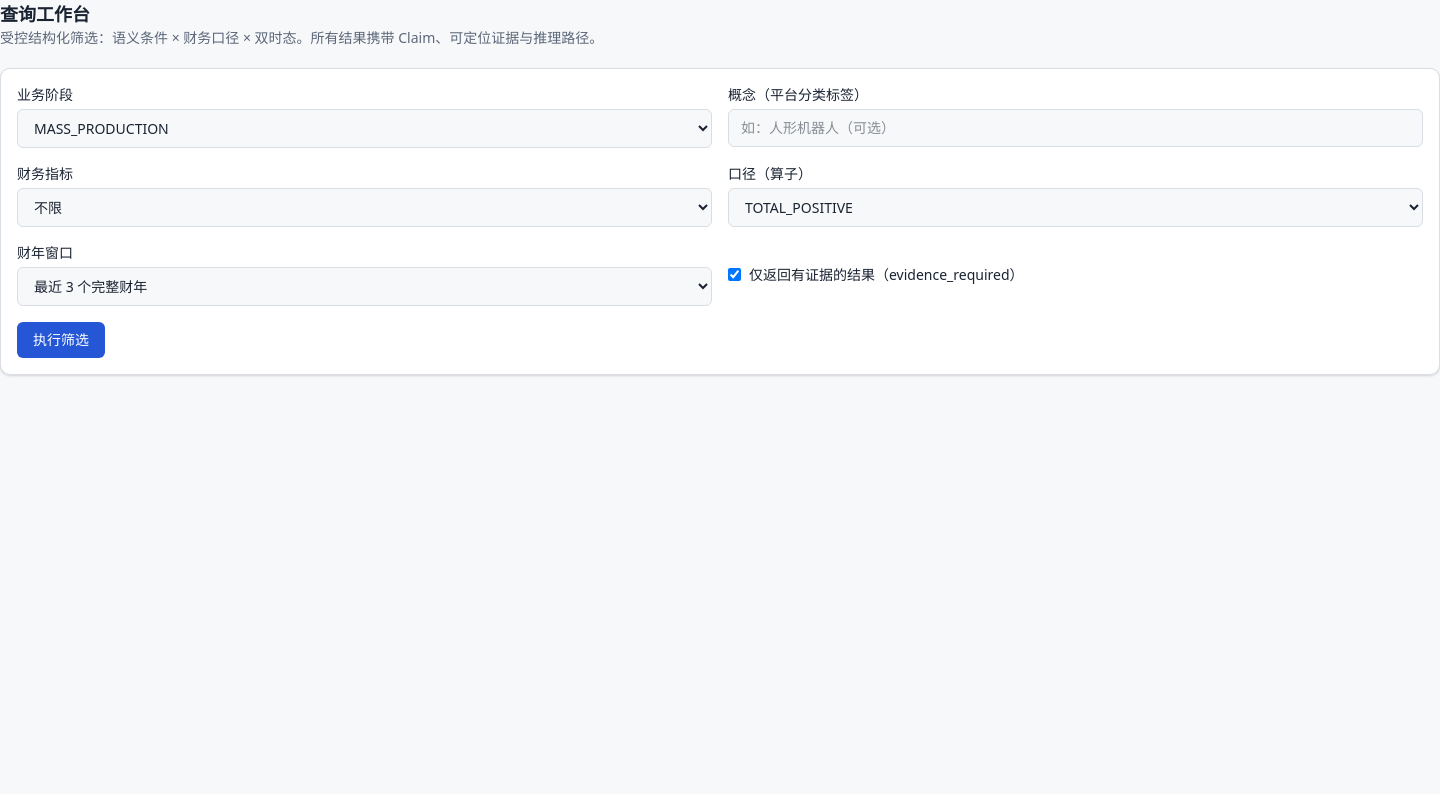
Scenario: 查询工作台（issue #31 关闭条件） › 空结果：显示筛选说明与排除原因，无虚构推荐
What coordinates should you click on to do the following:
click the button "执行筛选"
I would click on:
 (61, 340)
Its box is [17,322,105,358].
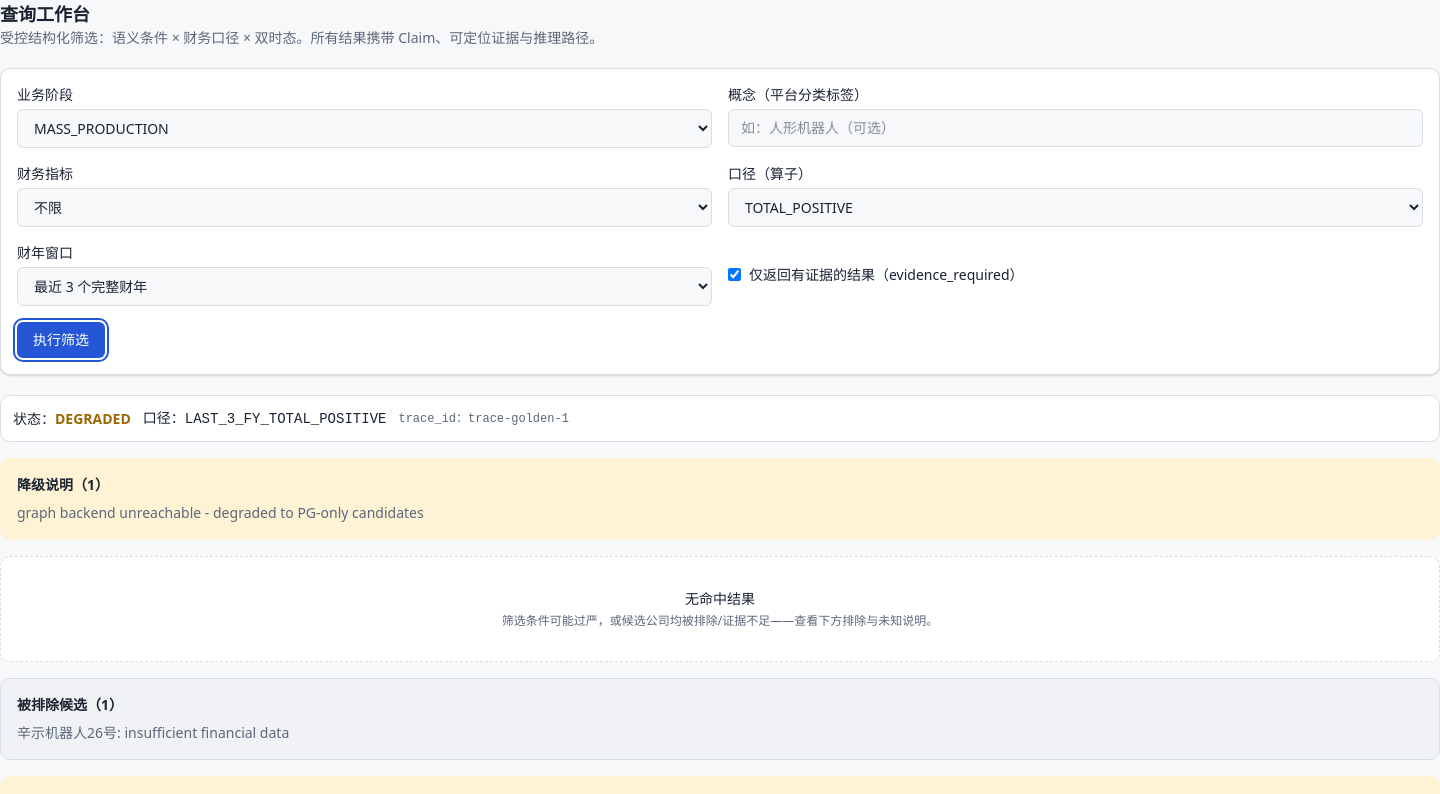
Check: the text "无命中结果" is shown, box [685,589,755,608]
Check: the element labelled "被排除候选" is shown, box [0,678,1439,760]
